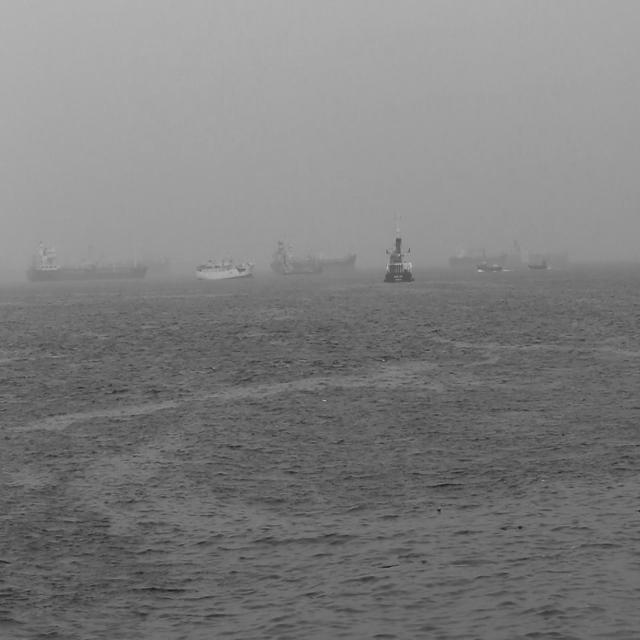ship: (28, 238, 148, 279), (272, 240, 359, 276), (385, 215, 415, 284), (195, 253, 257, 280), (448, 246, 516, 263), (477, 262, 503, 275), (527, 261, 549, 273)
